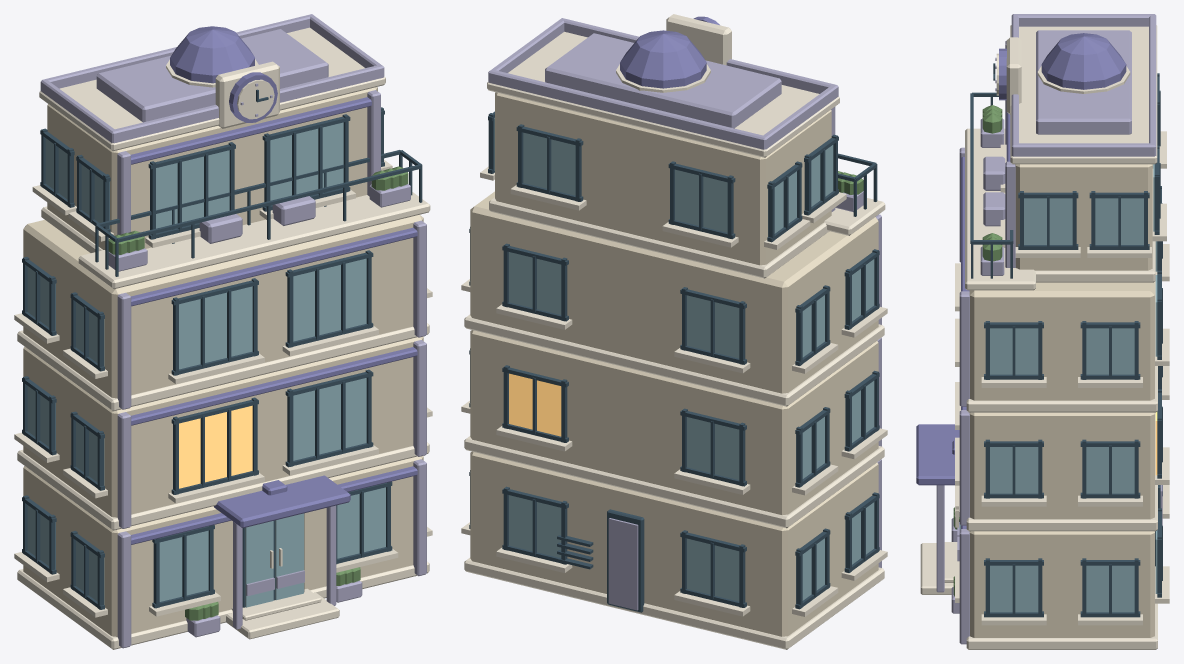
Rendered from learning-l04.glb.
3 renders of one model, left to right at view 1: azimuth 30°, elevation 25°; view 2: azimuth 150°, elevation 25°; view 3: azimuth 270°, elevation 25°, orthographic. The views are drawn at different scales.
Parts seen in each view (by area): view 1: learning_L04; view 2: learning_L04; view 3: learning_L04.
Boxes of the visible parts, box(x1,y1,x2,y2) form: learning_L04: box(14, 14, 432, 649); learning_L04: box(461, 14, 887, 649); learning_L04: box(916, 14, 1169, 649).
Bounding box in the file's own units: 6.27 × 9.59 × 4.09.
